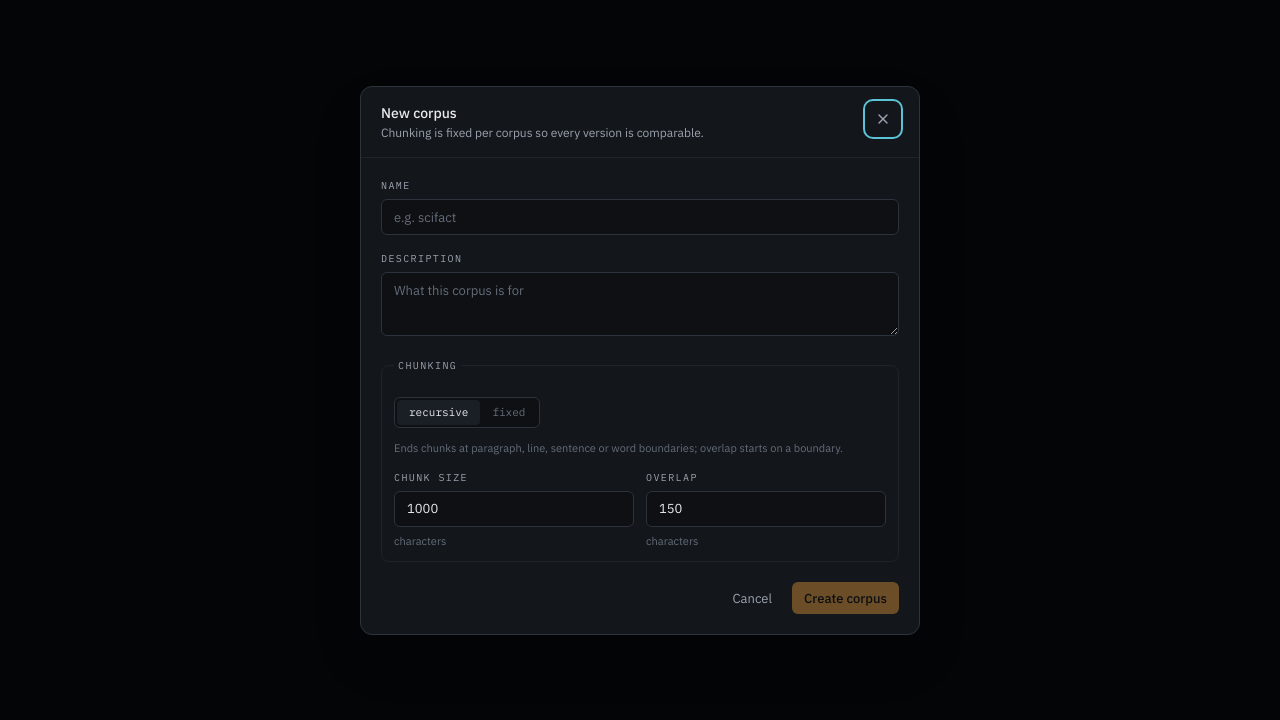
Test: CreateCorpusDialog › blocks invalid chunking and reports a name conflict from the API
Type "papers" into the field labelled "Name" at (640, 217), box [381, 199, 899, 235]
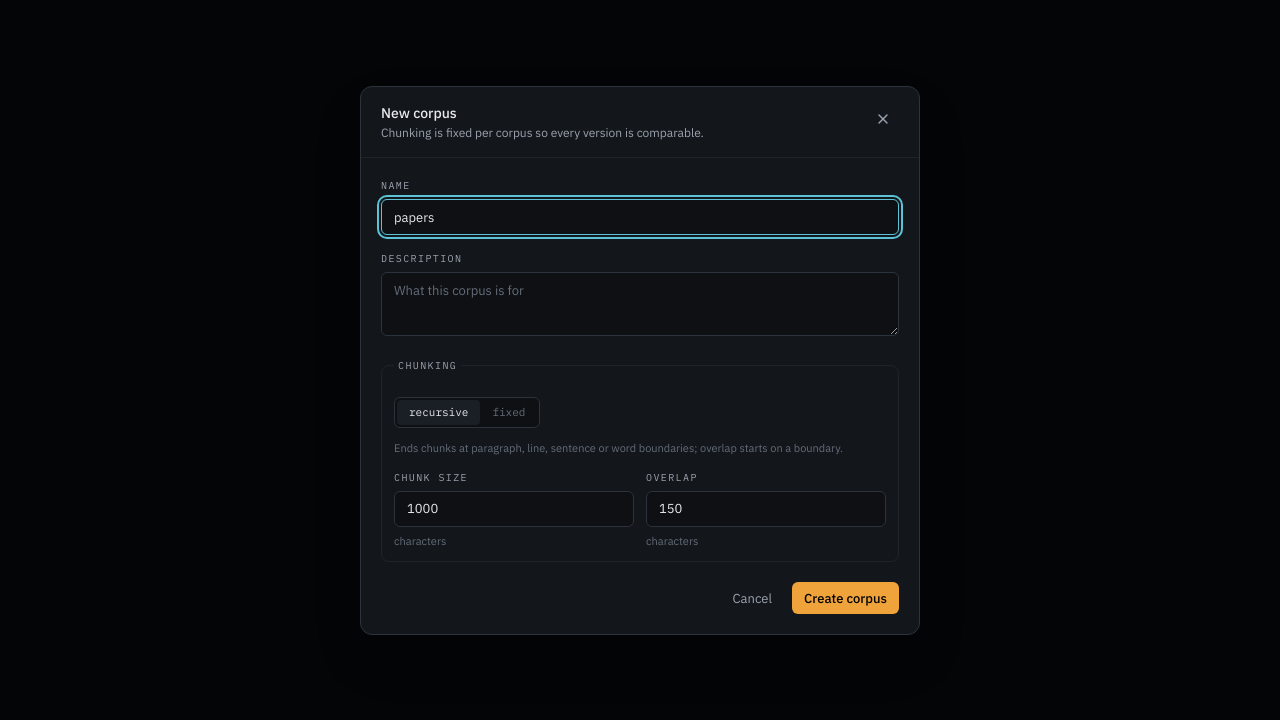
Replace the text in the number field labelled "Overlap" with "1000" at (766, 509), box [646, 491, 886, 527]
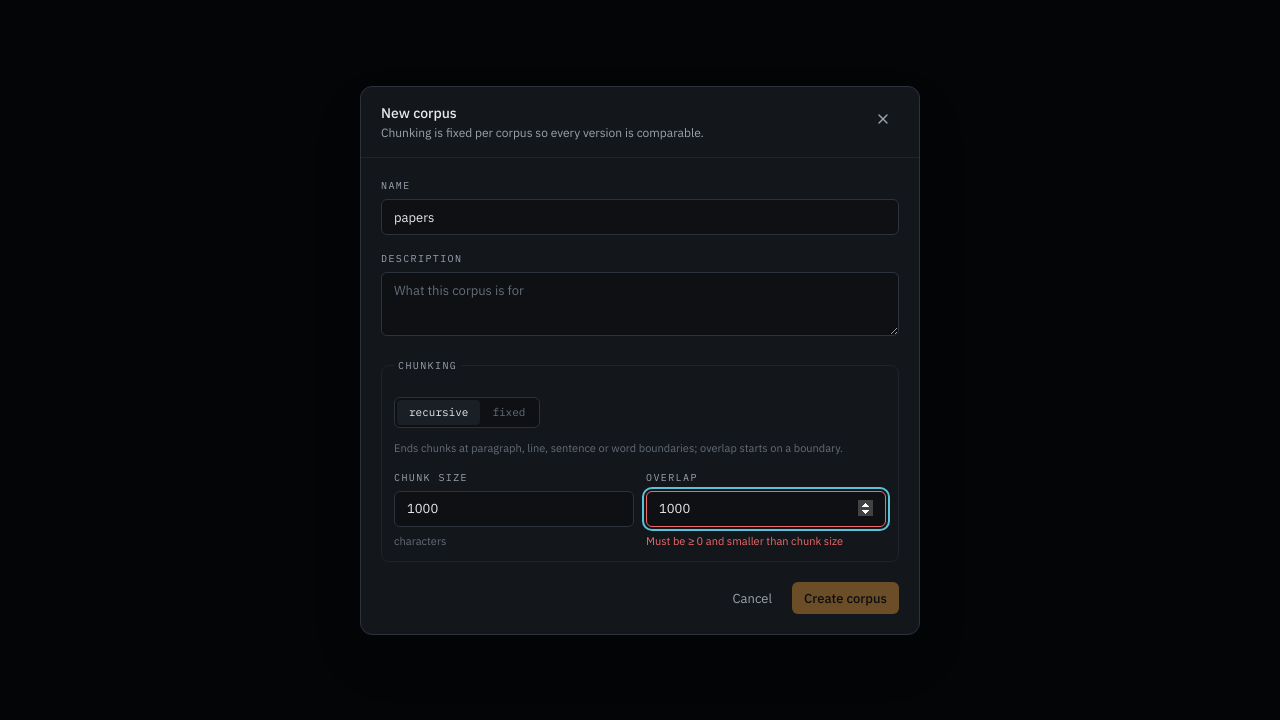
Result: the text "Must be ≥ 0 and smaller than chunk size" is shown at [646, 534, 843, 548]
Result: the button "Create corpus" is disabled at [792, 582, 899, 614]
Replace the text in the number field labelled "Overlap" with "100" at (766, 509), box [646, 491, 886, 527]
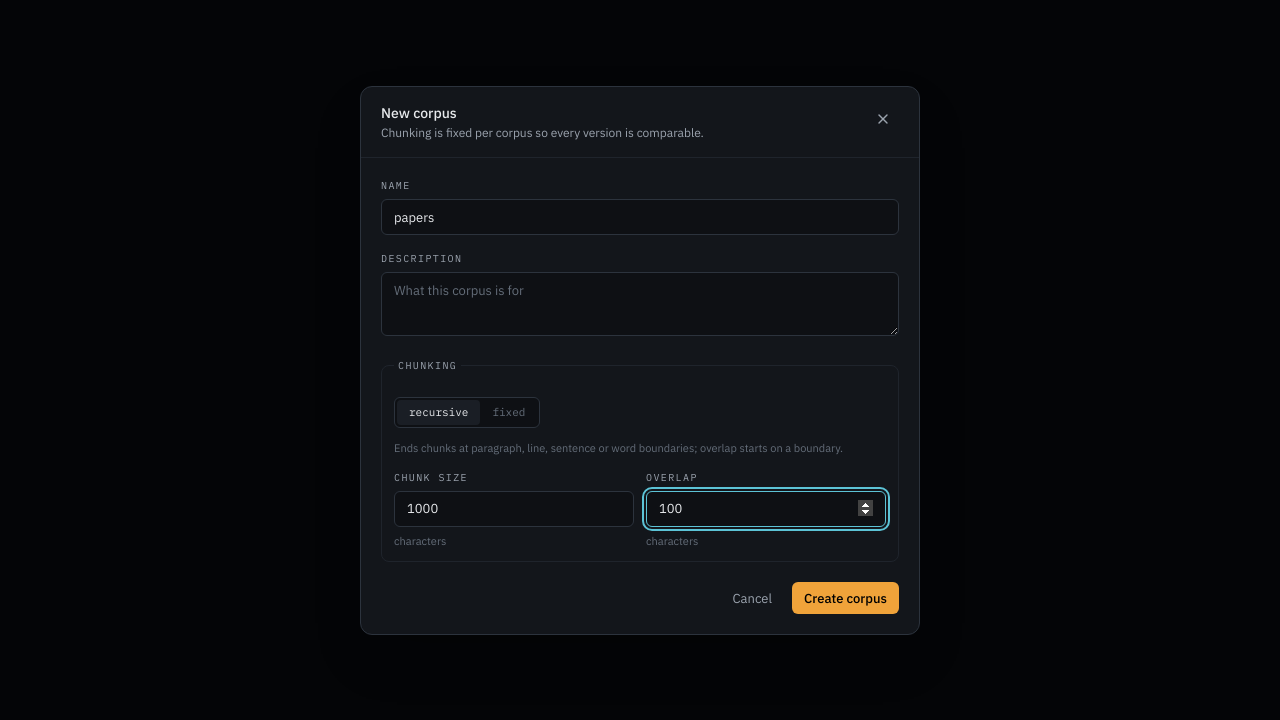
Click the button "Create corpus" at (846, 598), box [792, 582, 899, 614]
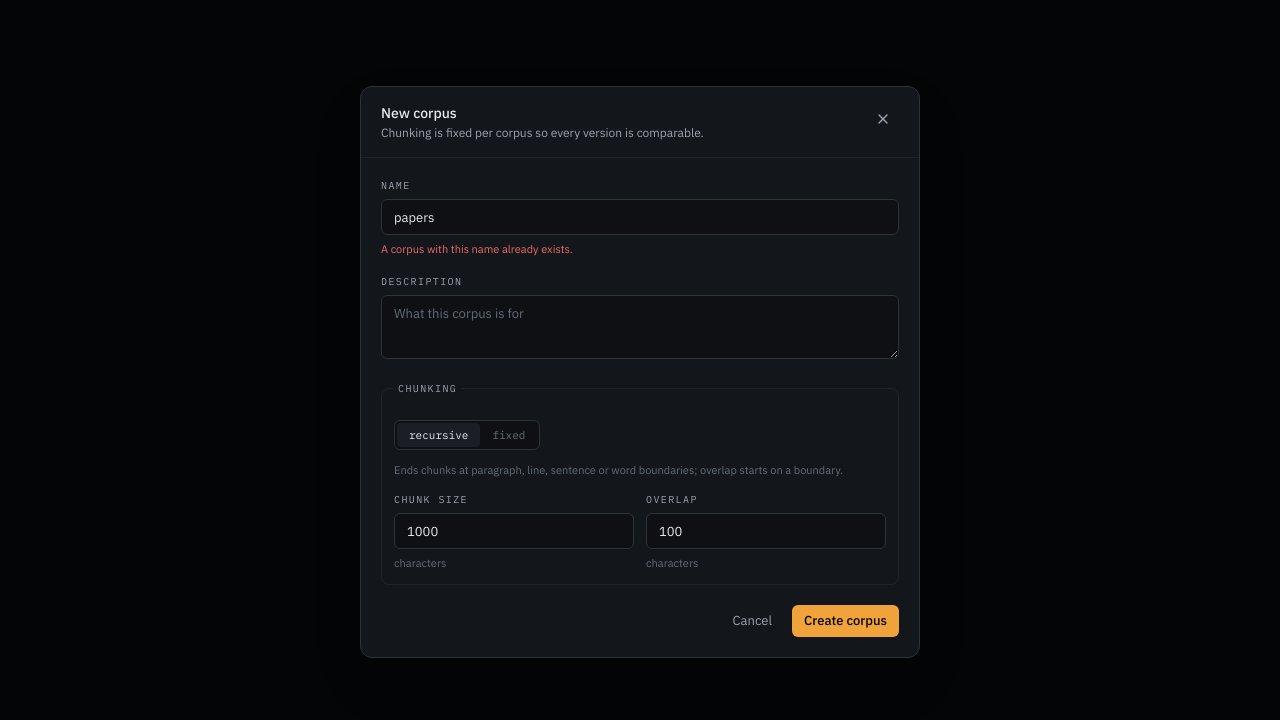
Result: the text "A corpus with this name already exists." is shown at [381, 242, 573, 256]
